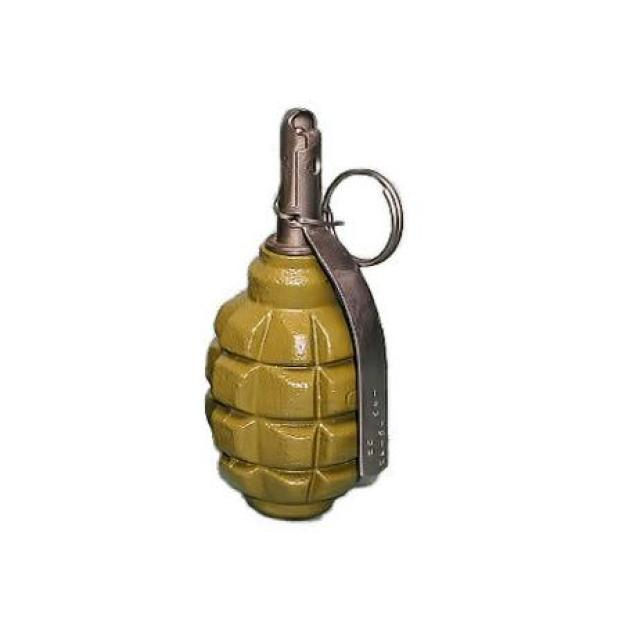grenade: (203, 109, 404, 522)
